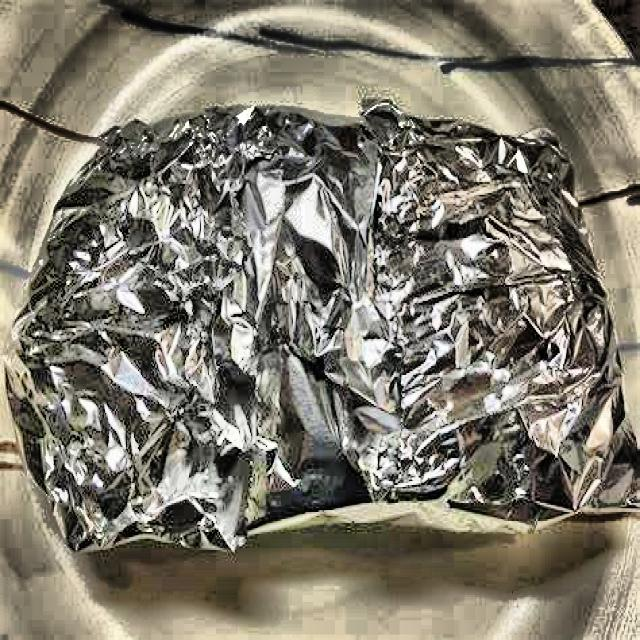Foil: (0, 89, 640, 570)
